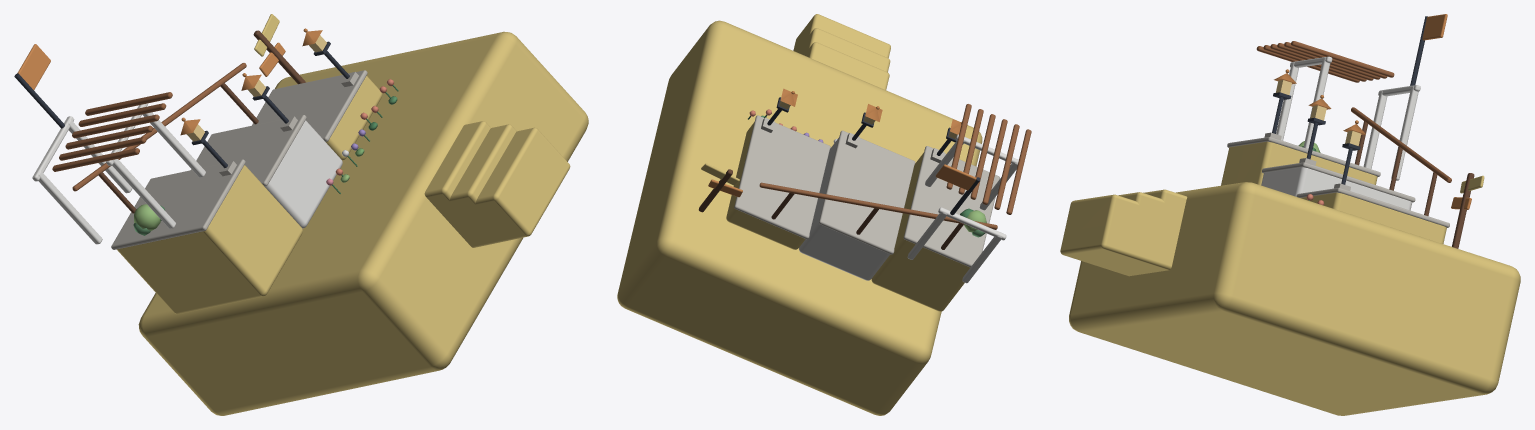
File: station-experience.glb
3 views of the same model, side by side, from view 1: azimuth 30°, elevation 25°; view 2: azimuth 150°, elevation 25°; view 3: azimuth 270°, elevation 25° (orthographic). The views are drawn at different scales.
Visible parts, largest first — view 1: experience; view 2: experience; view 3: experience.
Boxes of the visible parts, box(x1,y1,x2,y2) form: experience: box(14, 14, 588, 415); experience: box(617, 14, 1031, 415); experience: box(1060, 14, 1520, 415).
Size of the model in its own units: 3.72 by 2.73 by 3.34.
